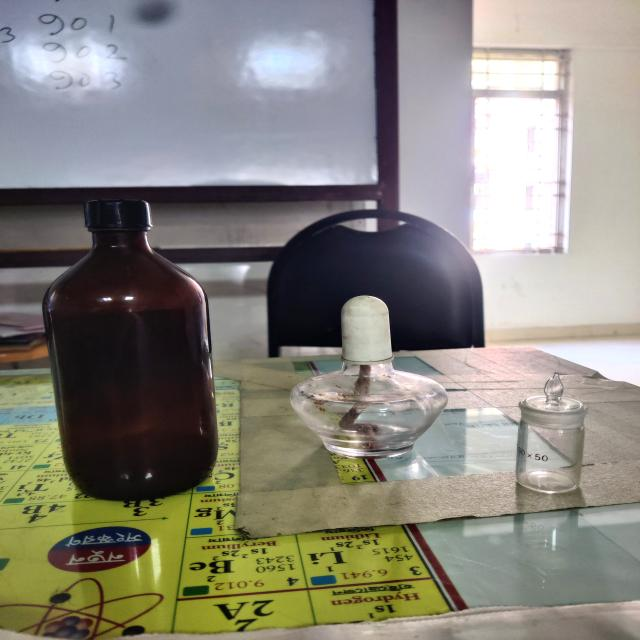Nessler_Reagent_Bottle: (9, 182, 241, 518)
Spirit_Lamp: (273, 278, 467, 484)
Weighing_Bottle: (493, 356, 614, 514)
